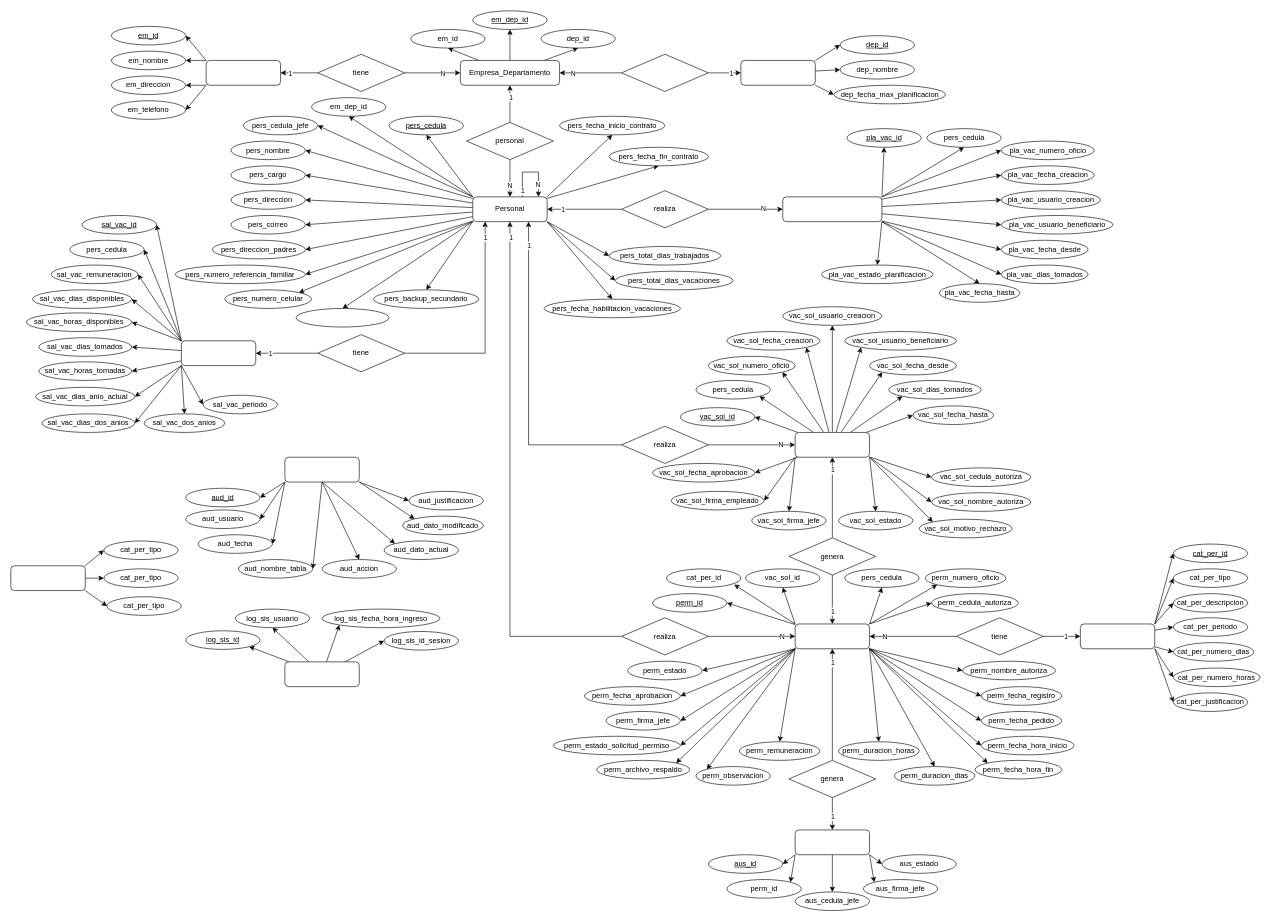
The diagram is 1271 pixels wide and 922 high, and some of its shapes have lost their labels. Each missing label, with the centre of its shape:
Auditoria: (321,469)
Ausente: (832,842)
Catalogo_Permisos: (1117,636)
Correo: (47,578)
Departamento: (777,72)
Empresa: (243,72)
Login_Sistema: (321,674)
Permiso: (832,636)
pers_backup_principal: (342,317)
pertenece: (664,72)
Planificacion_Vacacion: (832,209)
Saldo_Vacacion: (218,353)
Vacacion_Solicitud: (832,444)
